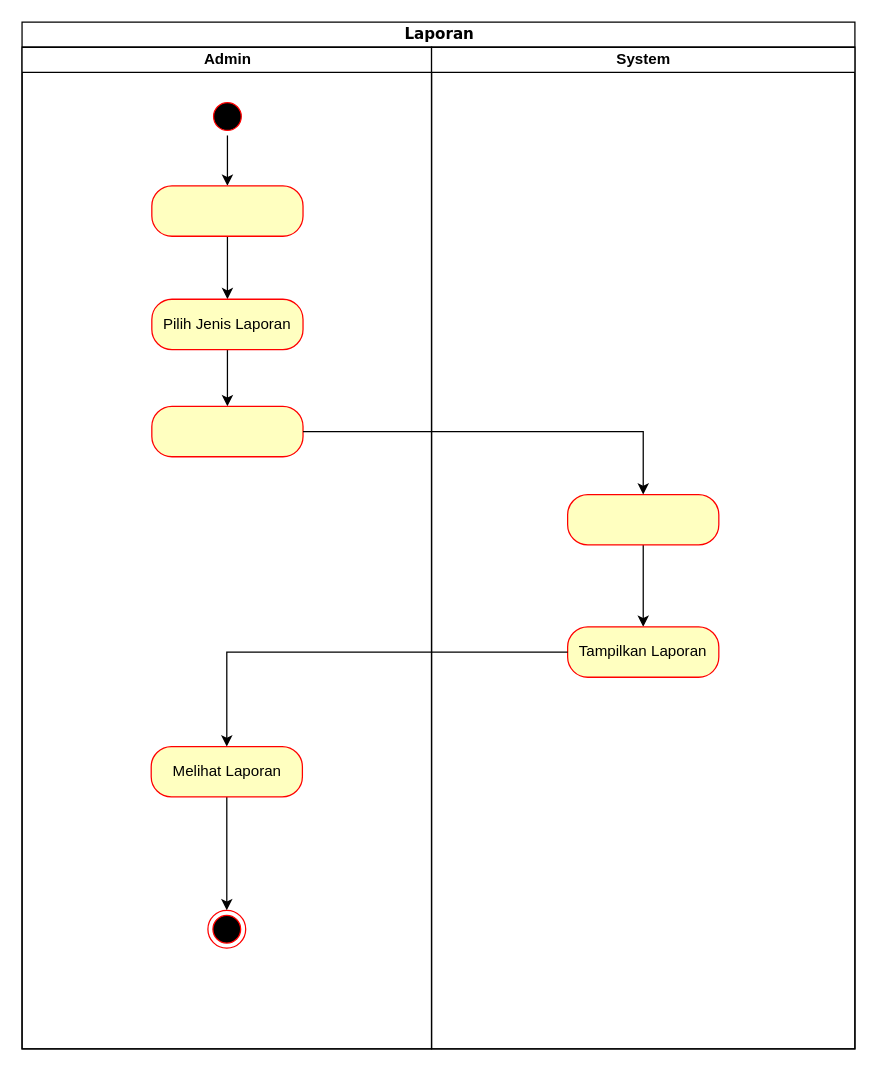
Some shapes in this 877 by 1071 pixel diagram are drawn without their labels. The shapes that lost their labels are listed below. From the top down, each one's centre as x and y in pixels, then its label:
At pixel 227 210: "Pilih Menu Laporan".
At pixel 227 431: "Klik Tampilkan".
At pixel 642 519: "Mengambil Data".
